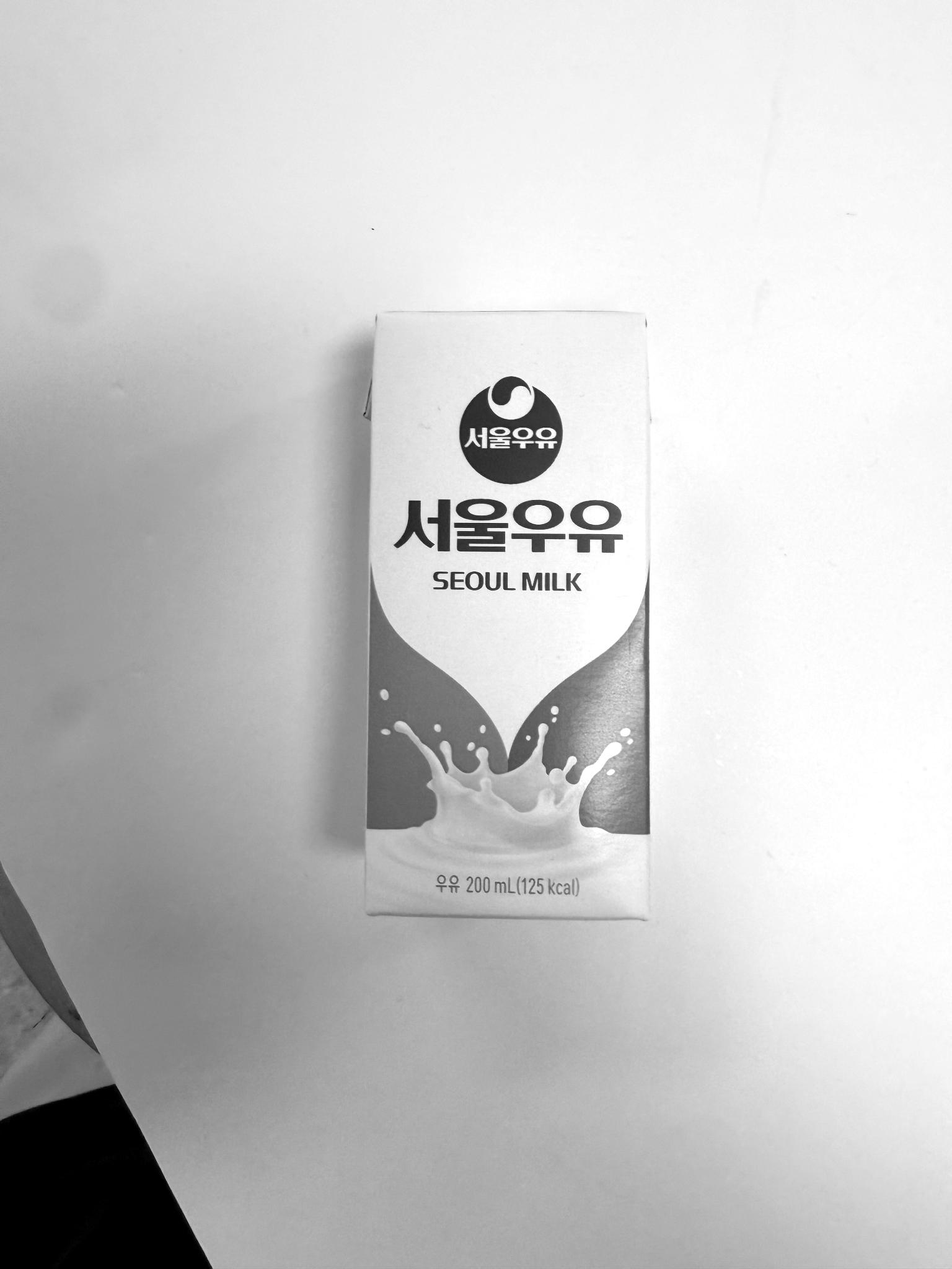milk_green: (359, 312, 651, 918)
